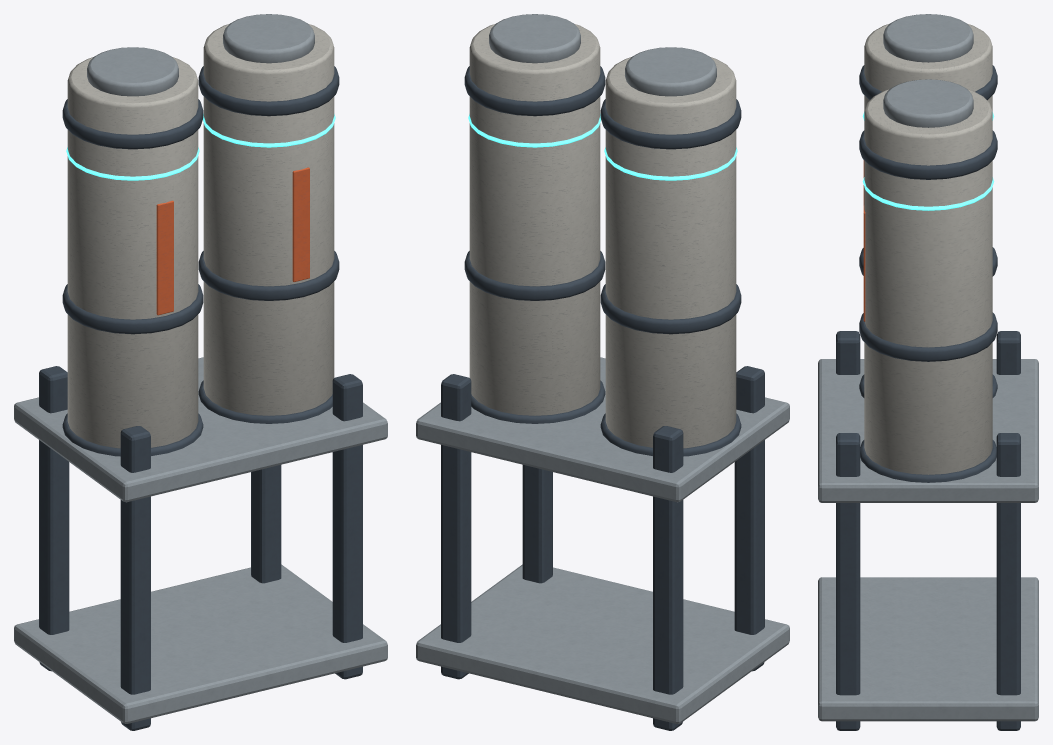
The model's file is industrial.glb.
3 renders of one model, left to right at view 1: azimuth 30°, elevation 25°; view 2: azimuth 150°, elevation 25°; view 3: azimuth 270°, elevation 25°, orthographic.
Parts seen in each view (by area): view 1: Pressure vessel, Frame, Tower leg, Identity stripe, Signal band; view 2: Pressure vessel, Frame, Tower leg, Signal band; view 3: Frame, Pressure vessel, Tower leg, Signal band, Identity stripe.
Part boxes in pixels (x1,y1,x2,y2): Pressure vessel: [67, 24, 334, 448]; Frame: [14, 14, 387, 723]; Tower leg: [39, 66, 362, 730]; Identity stripe: [156, 167, 309, 315]; Signal band: [66, 114, 335, 180]; Pressure vessel: [469, 24, 736, 448]; Frame: [416, 14, 789, 723]; Tower leg: [441, 66, 764, 730]; Signal band: [468, 114, 737, 180]; Frame: [818, 14, 1038, 721]; Pressure vessel: [864, 24, 992, 474]; Tower leg: [836, 65, 1020, 730]; Signal band: [862, 112, 994, 210]; Identity stripe: [863, 160, 865, 321].
Bounding box in the file's own units: 3 × 6.73 × 2.2.
5 materials, 4 textured.
